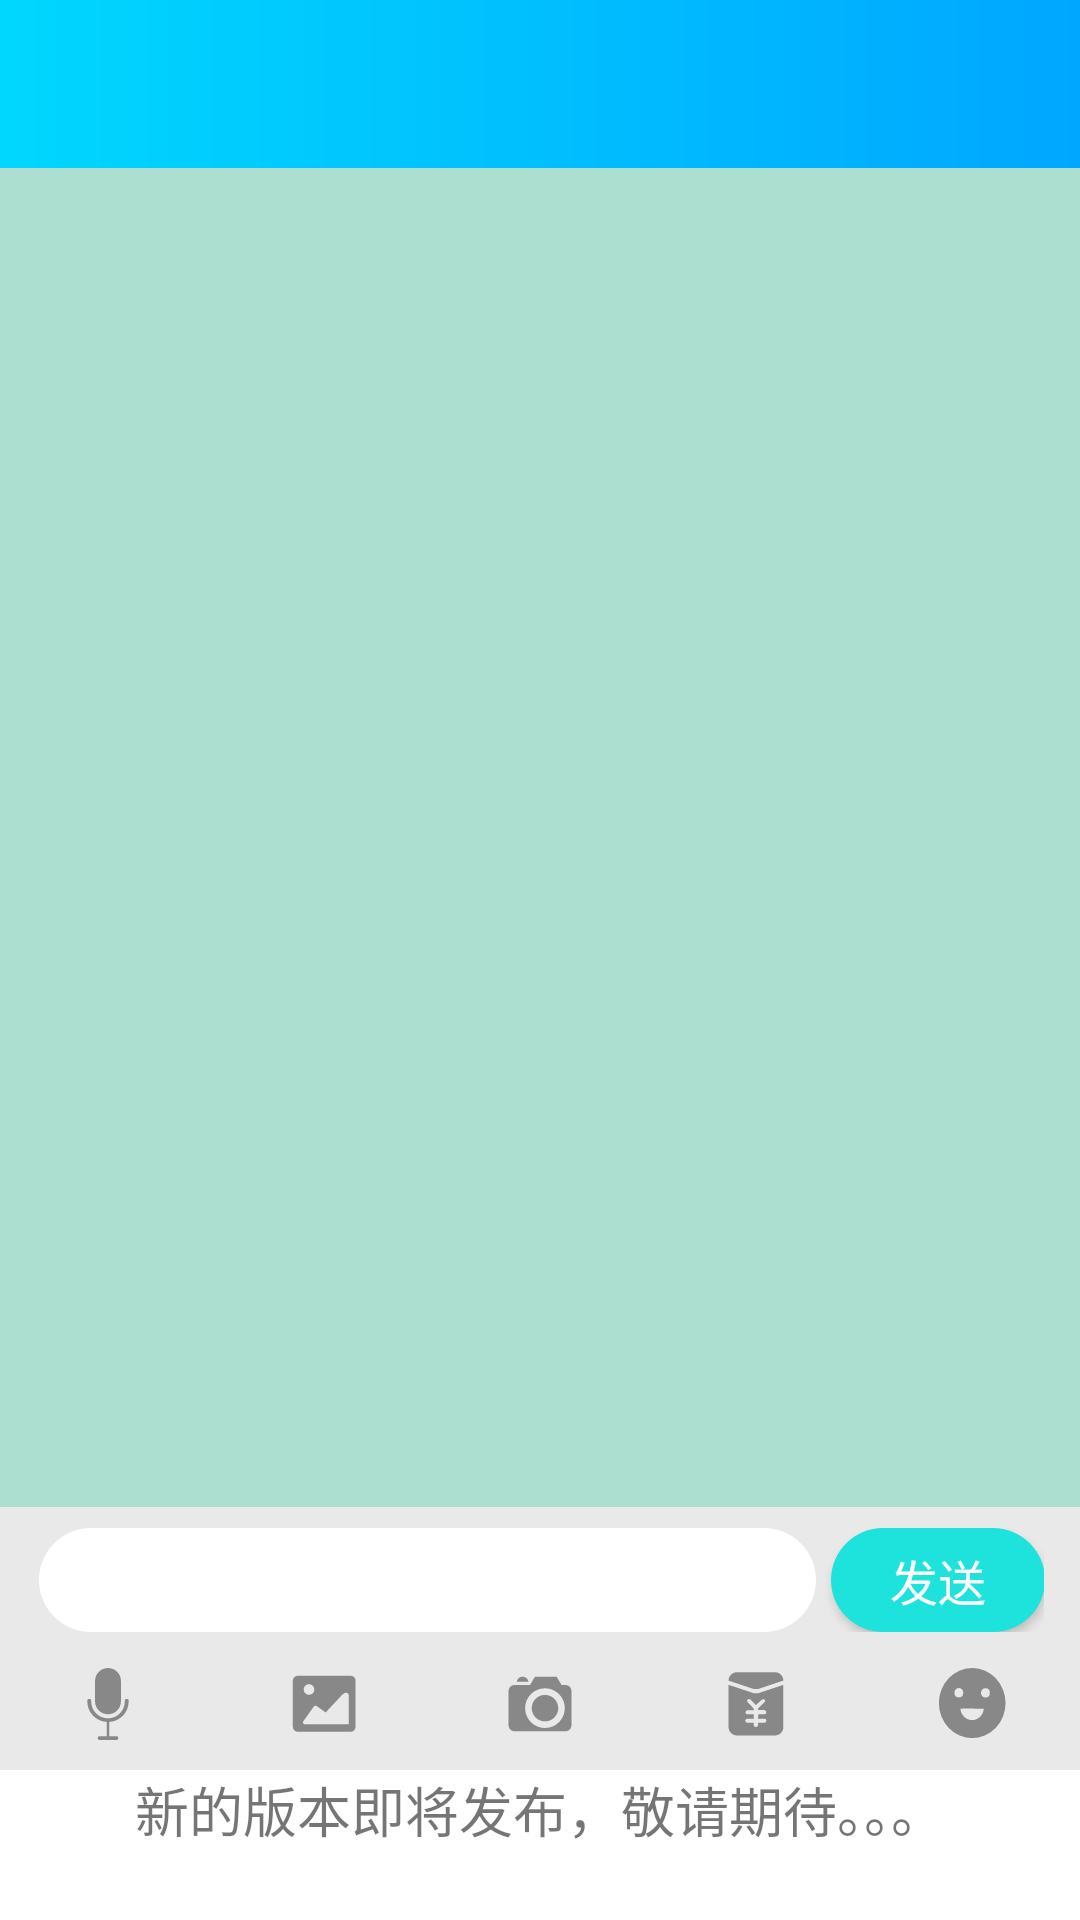

Point at icon controls on the screen. Image size 1080w x 1920h, points as (x=x, y=y).
emoji: (x=972, y=1703)
message camera: (x=540, y=1704)
message redpack: (x=756, y=1704)
mic: (x=108, y=1704)
